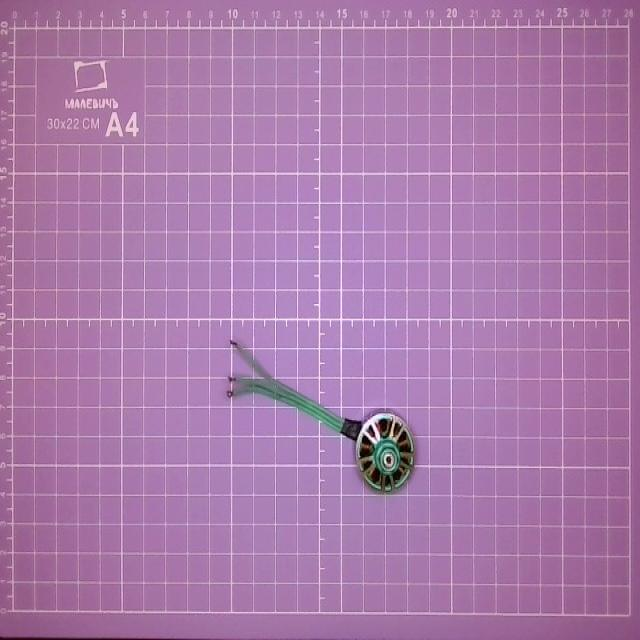motor: (227, 339, 413, 495)
